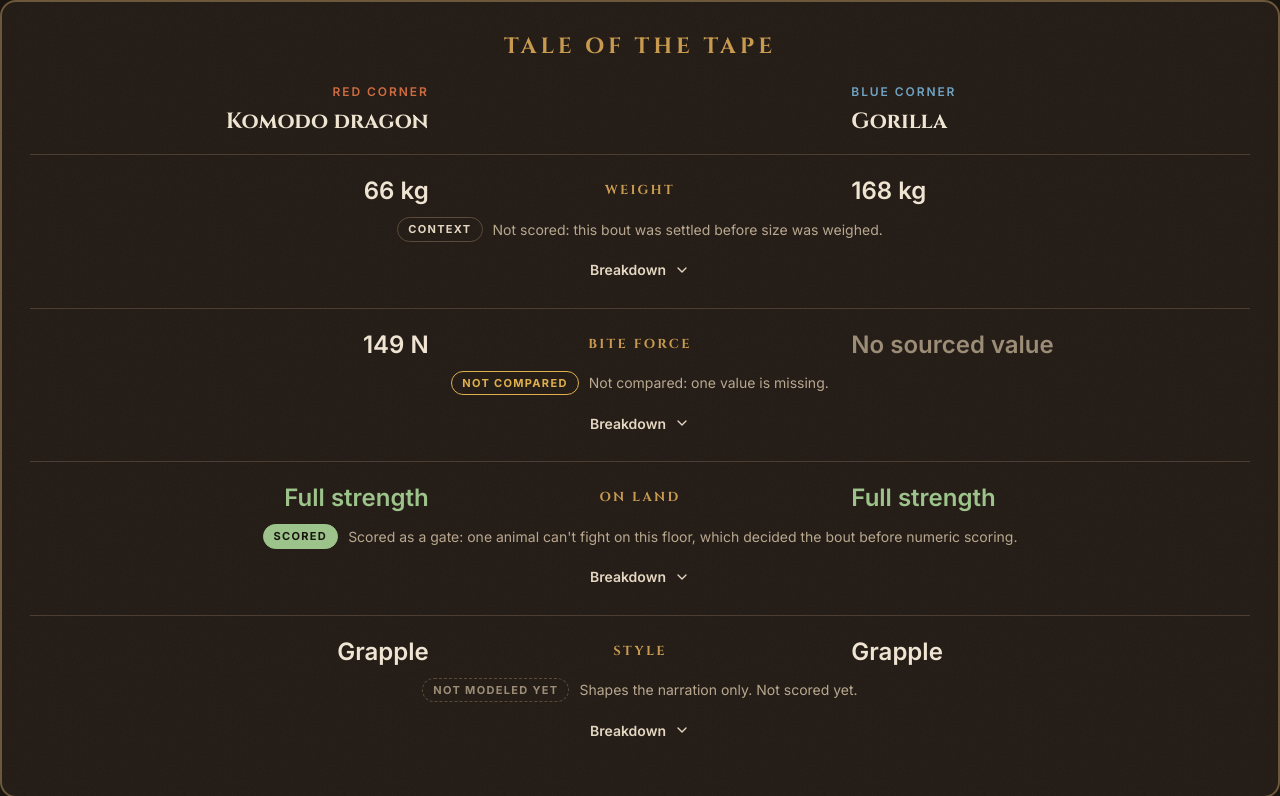
it: shows the Komodo slashing and venom caveat without changing the result
The image size is (1280, 796).
What coordinates should you click on to do the following:
click the button with test id "button-expand-bite"
I would click on:
 (640, 423)
Its box is [590,403,690,443].
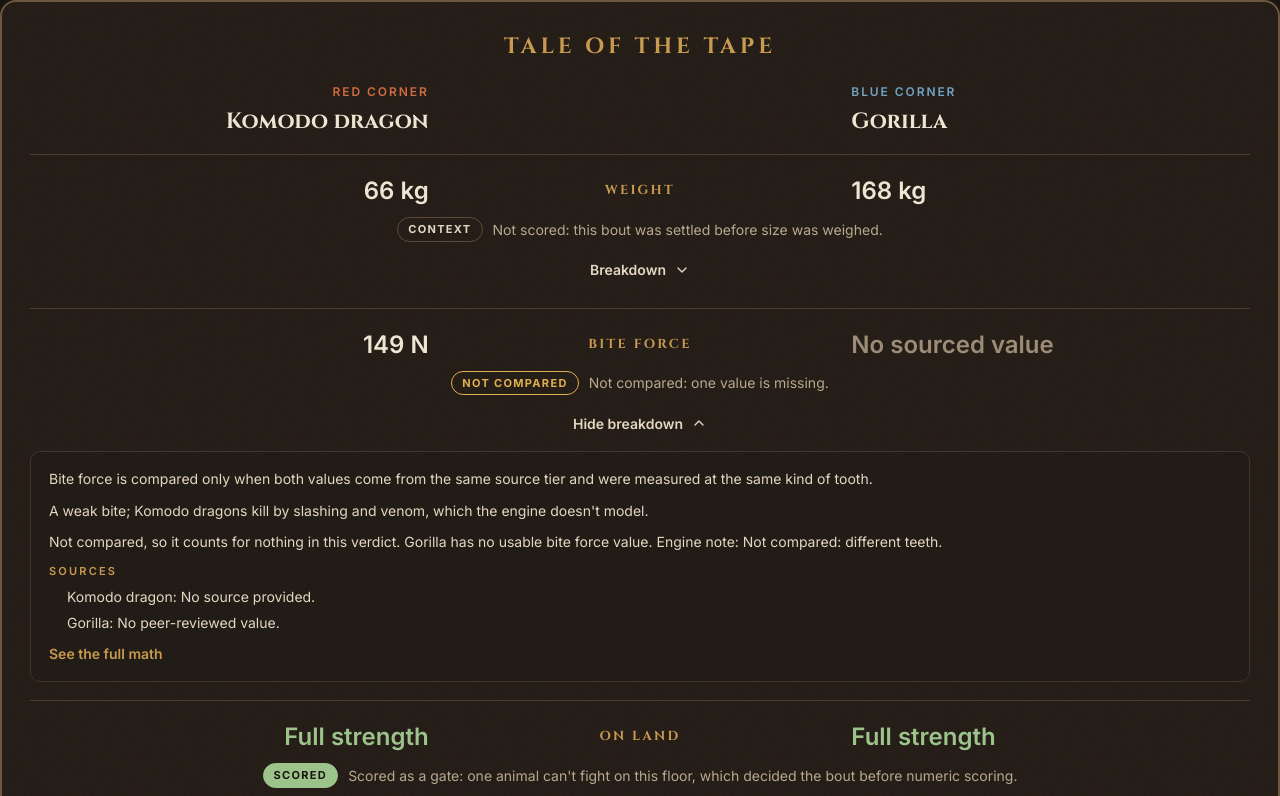
expect the text with test id "label-tape-bite" reads "Not compared": met, box [462,376,568,390]
expect the text with test id "text-komodo-bite" shows "A weak bite; Komodo dragons kill by slashing and venom, which the engine doesn't model.": met, box [49,502,648,519]
